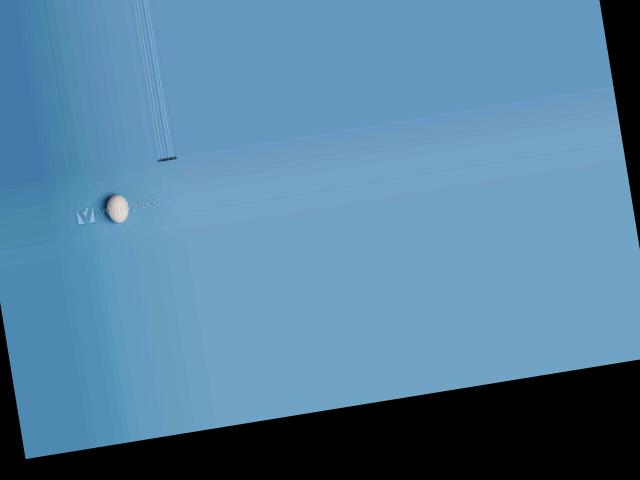egg: (105, 193, 130, 223)
